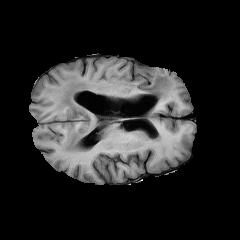glioma: (45, 70, 171, 153)
